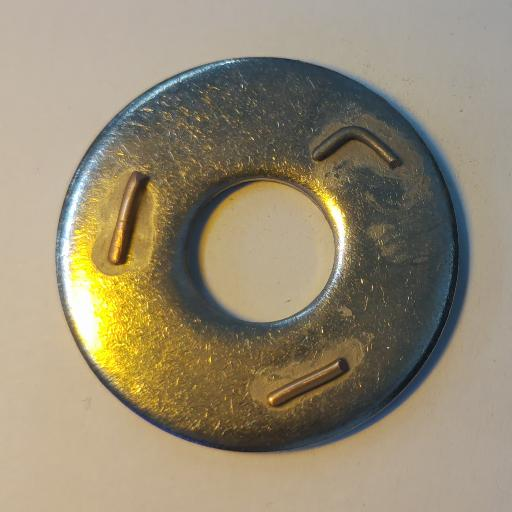excess_material: (267, 357, 349, 407), (107, 171, 150, 266), (312, 125, 400, 171)
